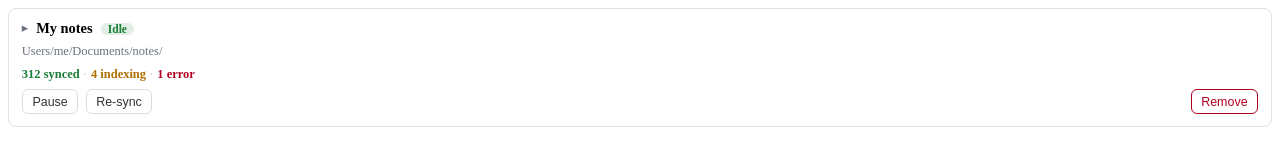
Test case: Pause then success keeps the server status
Click the button with test id "folder-pause". click: (50, 102)
box: [22,89,78,114]
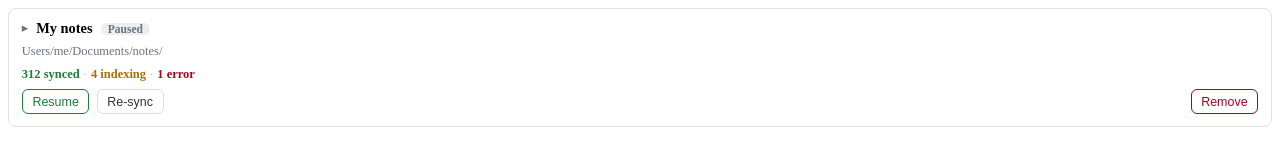
Check: the button with test id "folder-resume" is shown, box [22,89,89,114]
Check: the text with test id "folder-status" reads "Paused", box [108,23,143,35]
